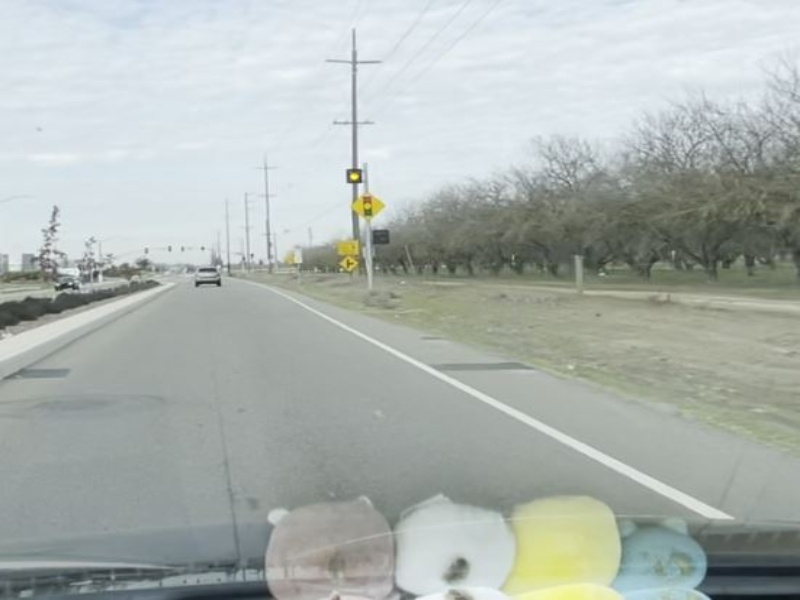street light sign: (350, 190, 387, 224)
